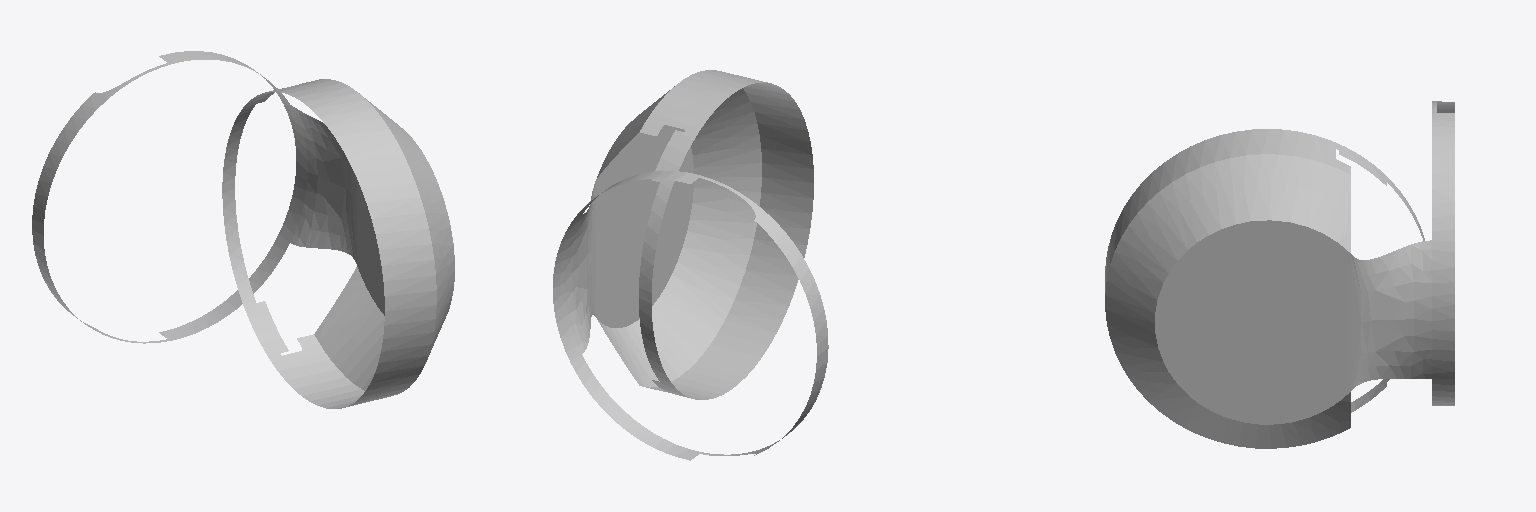
3 renders of one model, left to right at view 1: azimuth 30°, elevation 25°; view 2: azimuth 150°, elevation 25°; view 3: azimuth 270°, elevation 25°, orthographic.
Parts seen in each view (by area): view 1: link1_0; view 2: link1_0; view 3: link1_0.
Boxes of the visible parts, <box> form: link1_0: <box>32,51,454,408</box>; link1_0: <box>553,70,828,460</box>; link1_0: <box>1105,101,1454,448</box>.
Size of the model in its own units: 95.01 by 98.02 by 106.